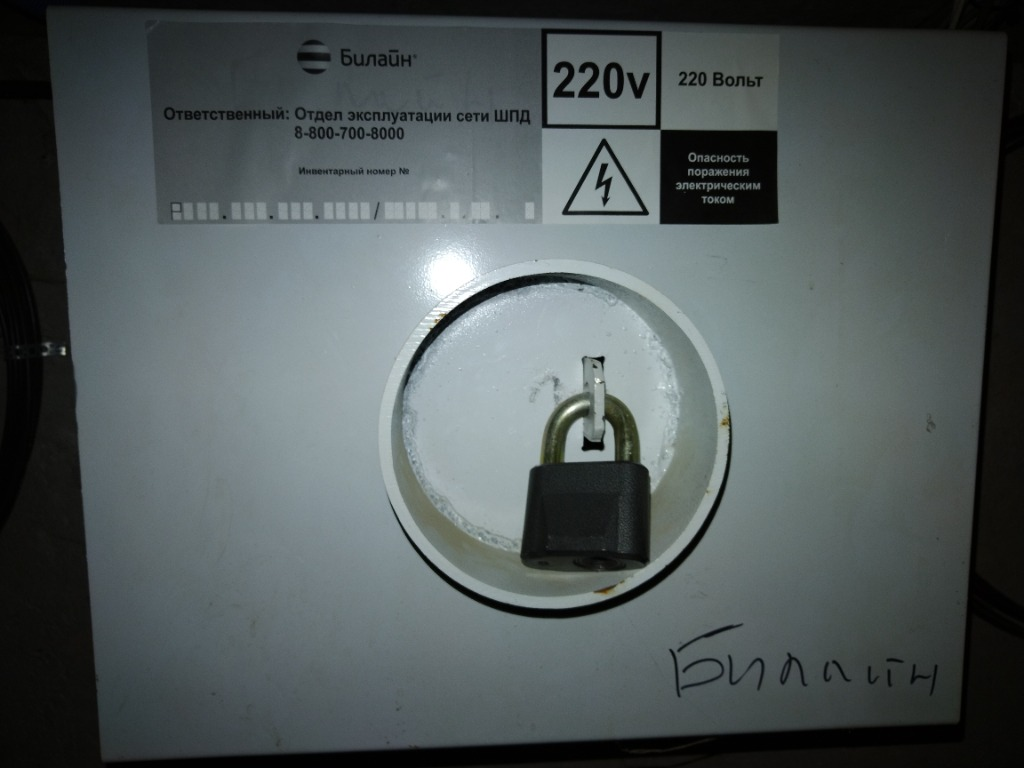shta-3: (43, 6, 1007, 759)
